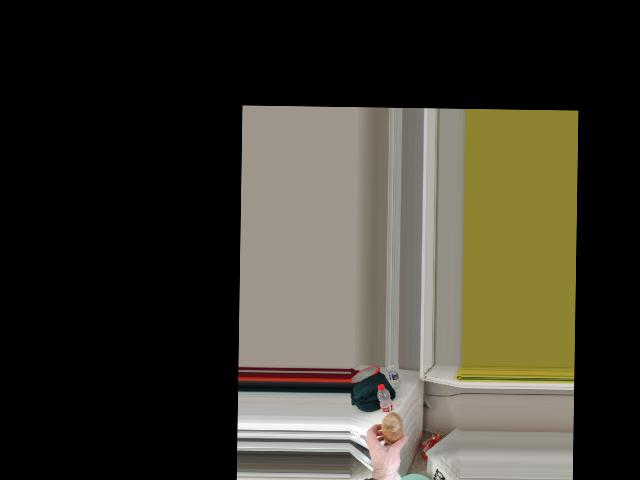sweet_potato: (375, 413, 405, 449)
